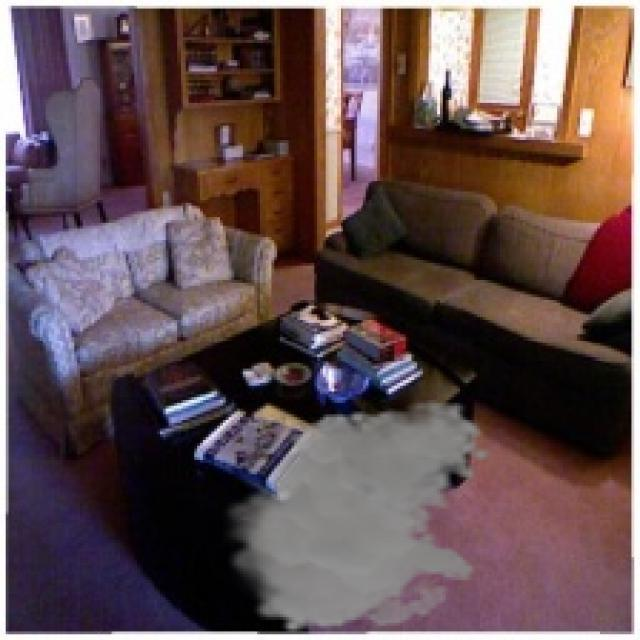Smoke: (217, 400, 492, 634)
